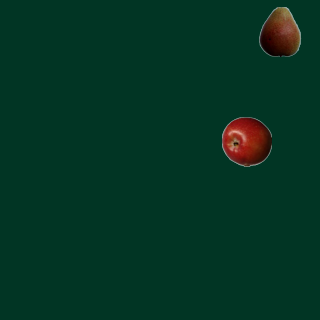Apple Braeburn: (221, 116, 271, 166)
Pear Forelle: (254, 6, 304, 56)
